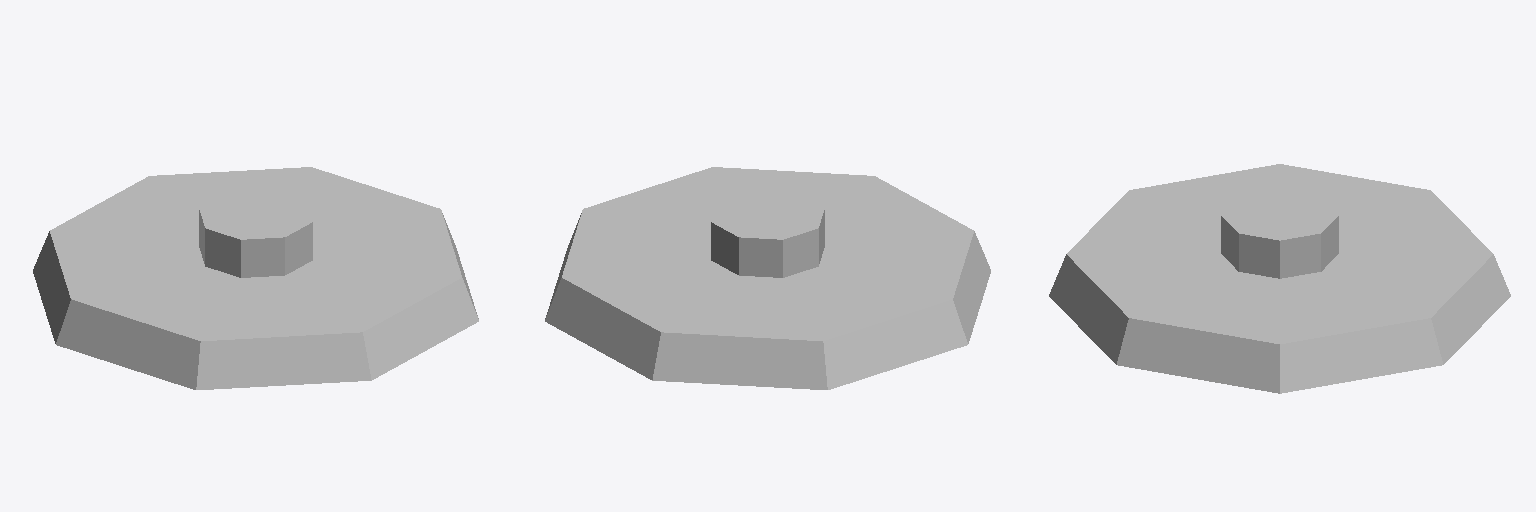
The model's file is turret_large1_base.obj.
3 renders of one model, left to right at view 1: azimuth 30°, elevation 25°; view 2: azimuth 150°, elevation 25°; view 3: azimuth 270°, elevation 25°, orthographic.
Visible parts, largest first — view 1: turret_large1_base_Cylinder; view 2: turret_large1_base_Cylinder; view 3: turret_large1_base_Cylinder.
Part boxes in pixels (x1,y1,x2,y2): turret_large1_base_Cylinder: (33, 167, 478, 389); turret_large1_base_Cylinder: (545, 167, 990, 389); turret_large1_base_Cylinder: (1049, 164, 1510, 393).
Bounding box in the file's own units: 0.8 × 0.153 × 0.8.